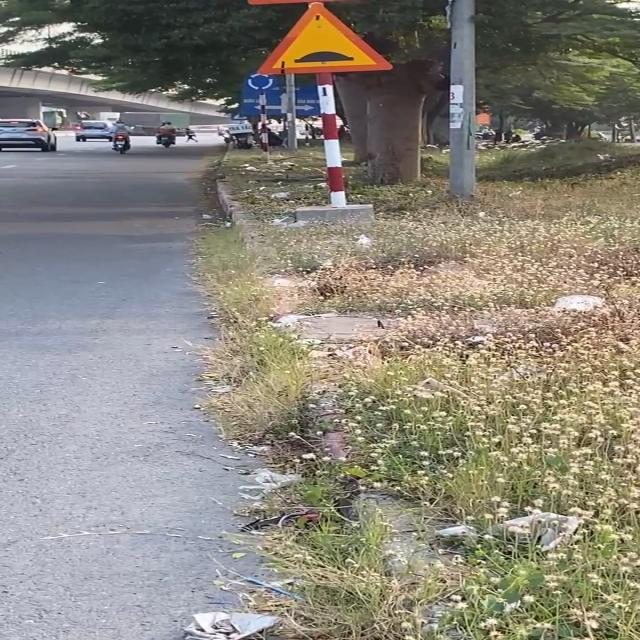221-duong-go-ghe: (254, 0, 398, 76)
303-noi-giao-nhau-chay-theo-vong-xuyen: (244, 72, 276, 91)
